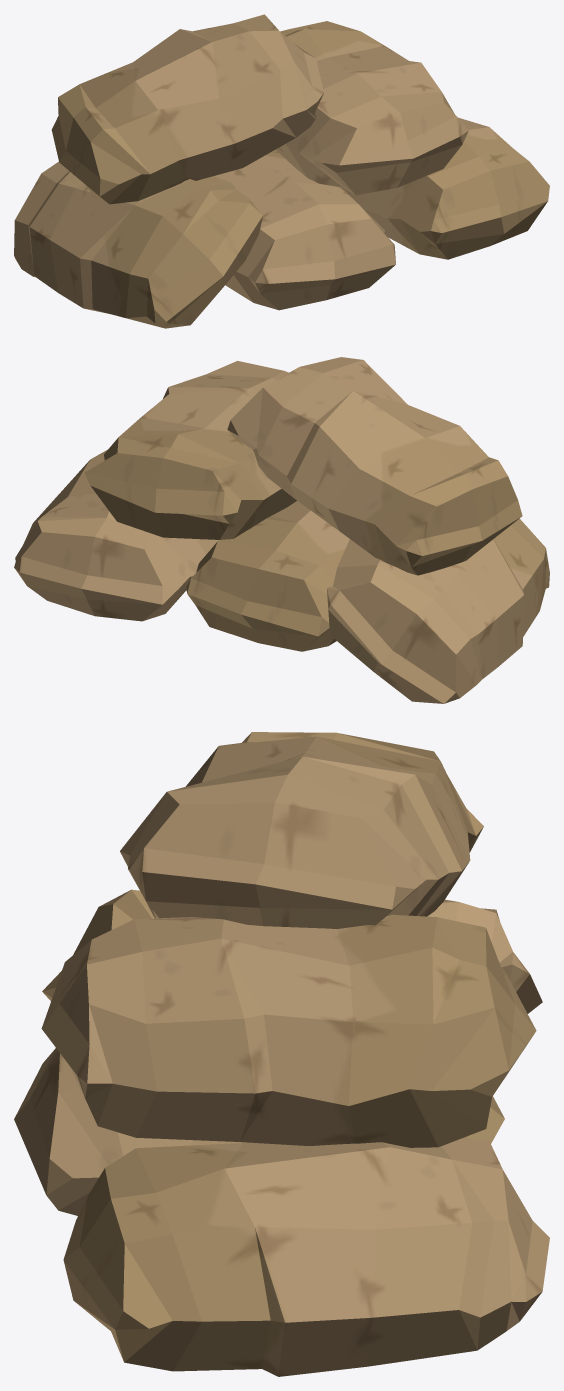
Rendered from SM_Prop_Sack_Pile_01.fbx.
3 renders of one model, top to bottom at view 1: azimuth 30°, elevation 25°; view 2: azimuth 150°, elevation 25°; view 3: azimuth 270°, elevation 25°, orthographic. The views are drawn at different scales.
Visible parts, largest first — view 1: SM_Prop_Sack_Pile_01; view 2: SM_Prop_Sack_Pile_01; view 3: SM_Prop_Sack_Pile_01.
Boxes of the visible parts, x1,y1,x2,y2 form: SM_Prop_Sack_Pile_01: (14, 14, 549, 328); SM_Prop_Sack_Pile_01: (14, 357, 549, 703); SM_Prop_Sack_Pile_01: (14, 732, 549, 1376).
Bounding box in the file's own units: 148 × 77.95 × 88.04.
